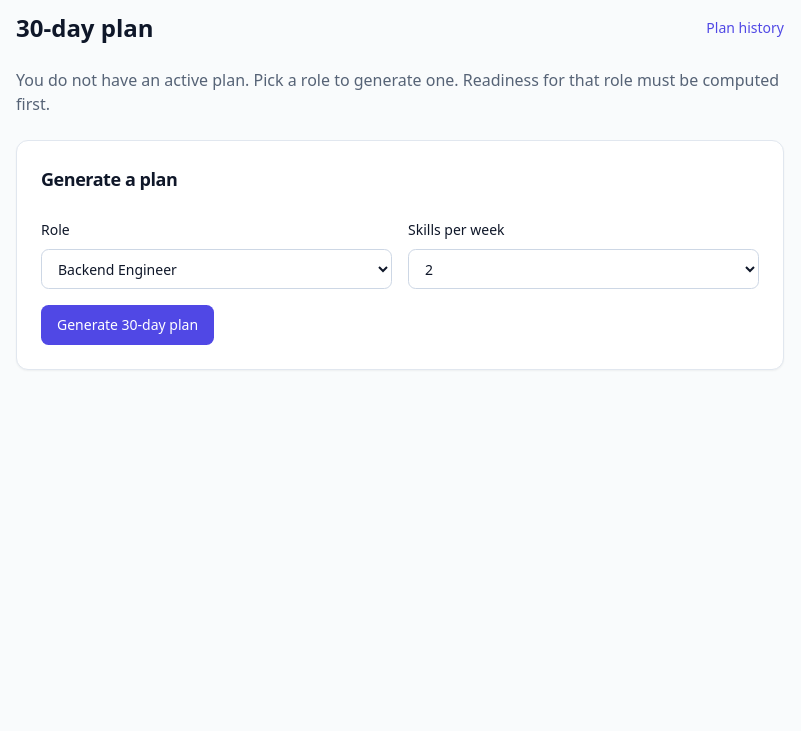
Test: PlanPage › defaults the role picker to the first goal and shows the generated plan
Expected: the dropdown labelled "Role" shows "Backend Engineer", top-left (41, 249), bottom-right (392, 289)
Click the button "Generate 30-day plan" at (128, 325), box top-left (41, 305), bottom-right (214, 345)
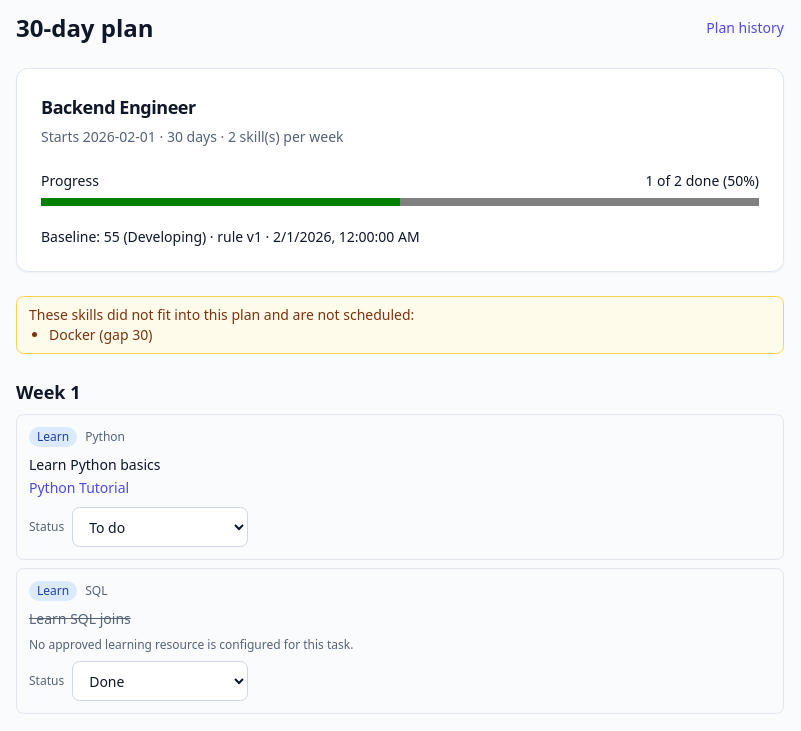
Expected: the heading "Week 1" is shown, top-left (16, 380), bottom-right (80, 404)
